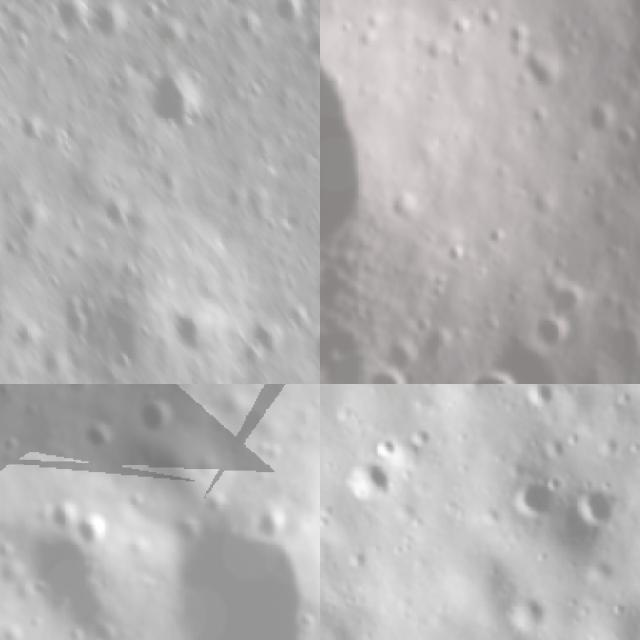crater: (160, 505, 307, 640), (0, 519, 120, 640), (144, 58, 216, 140), (171, 293, 232, 361), (520, 36, 566, 102), (562, 485, 619, 536), (520, 313, 582, 357), (500, 473, 561, 515), (508, 590, 554, 640), (86, 0, 129, 48), (136, 387, 176, 438), (246, 316, 286, 364), (95, 190, 135, 238), (80, 407, 116, 459), (354, 456, 391, 506), (146, 11, 186, 54), (251, 501, 291, 544), (50, 0, 92, 37), (266, 0, 315, 31), (37, 494, 74, 534), (522, 384, 569, 413), (70, 510, 110, 544), (458, 364, 523, 384), (589, 106, 617, 146), (365, 365, 411, 384), (311, 331, 320, 377), (217, 0, 254, 10)
